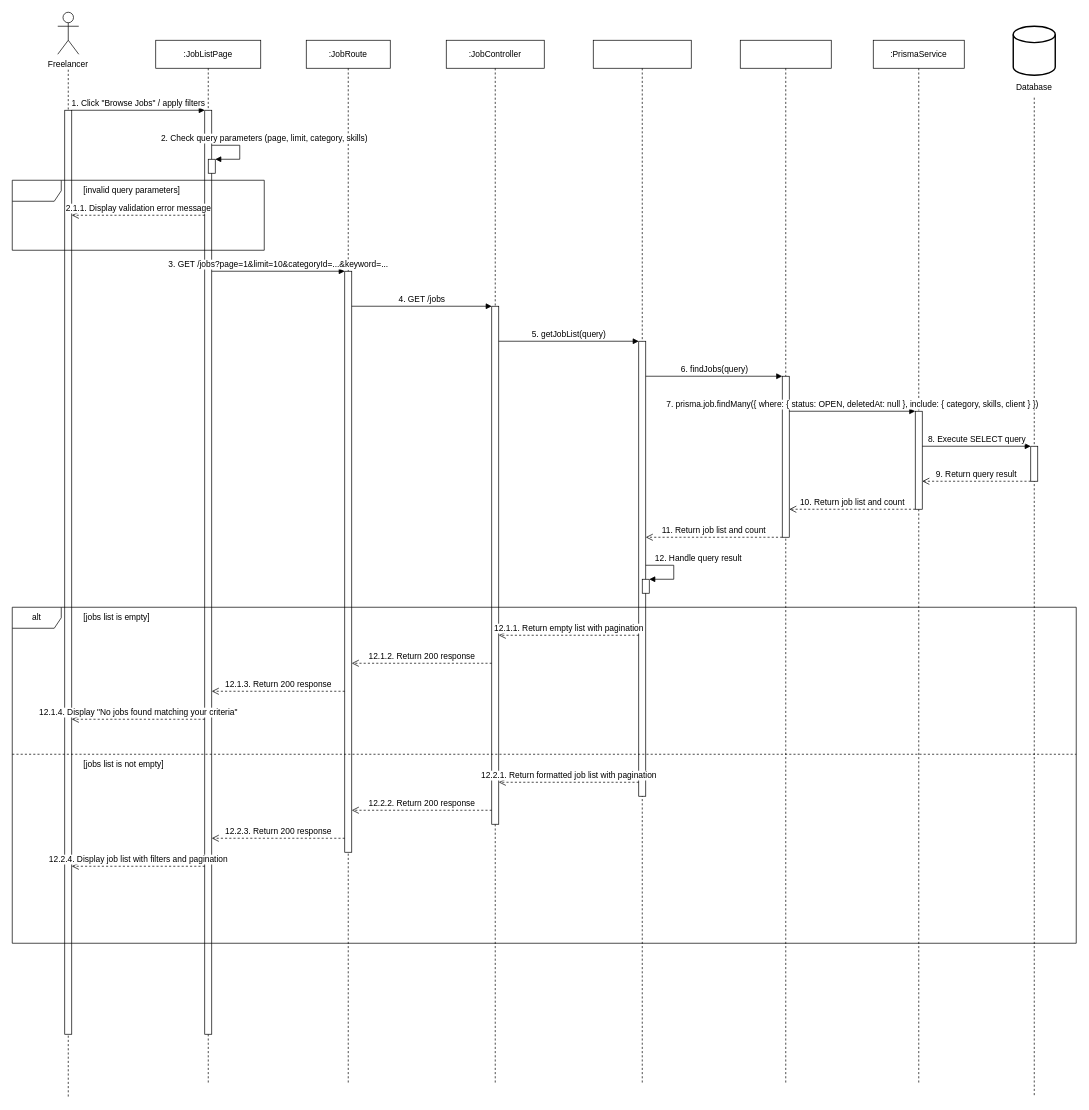
Some shapes in this 1089 by 1110 pixel diagram are drawn without their labels. Here are the shapes that lost their labels. From the top down, the box of each, then its label:
(12, 180, 264, 250): opt
(593, 40, 691, 1083): :JobService
(740, 40, 831, 1083): :JobRepo
